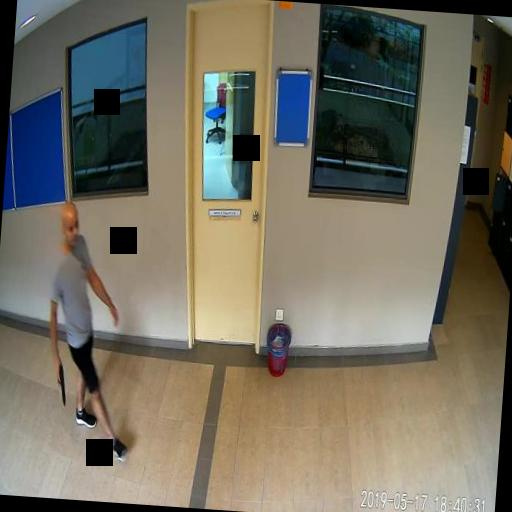Handgun: (50, 358, 68, 403)
